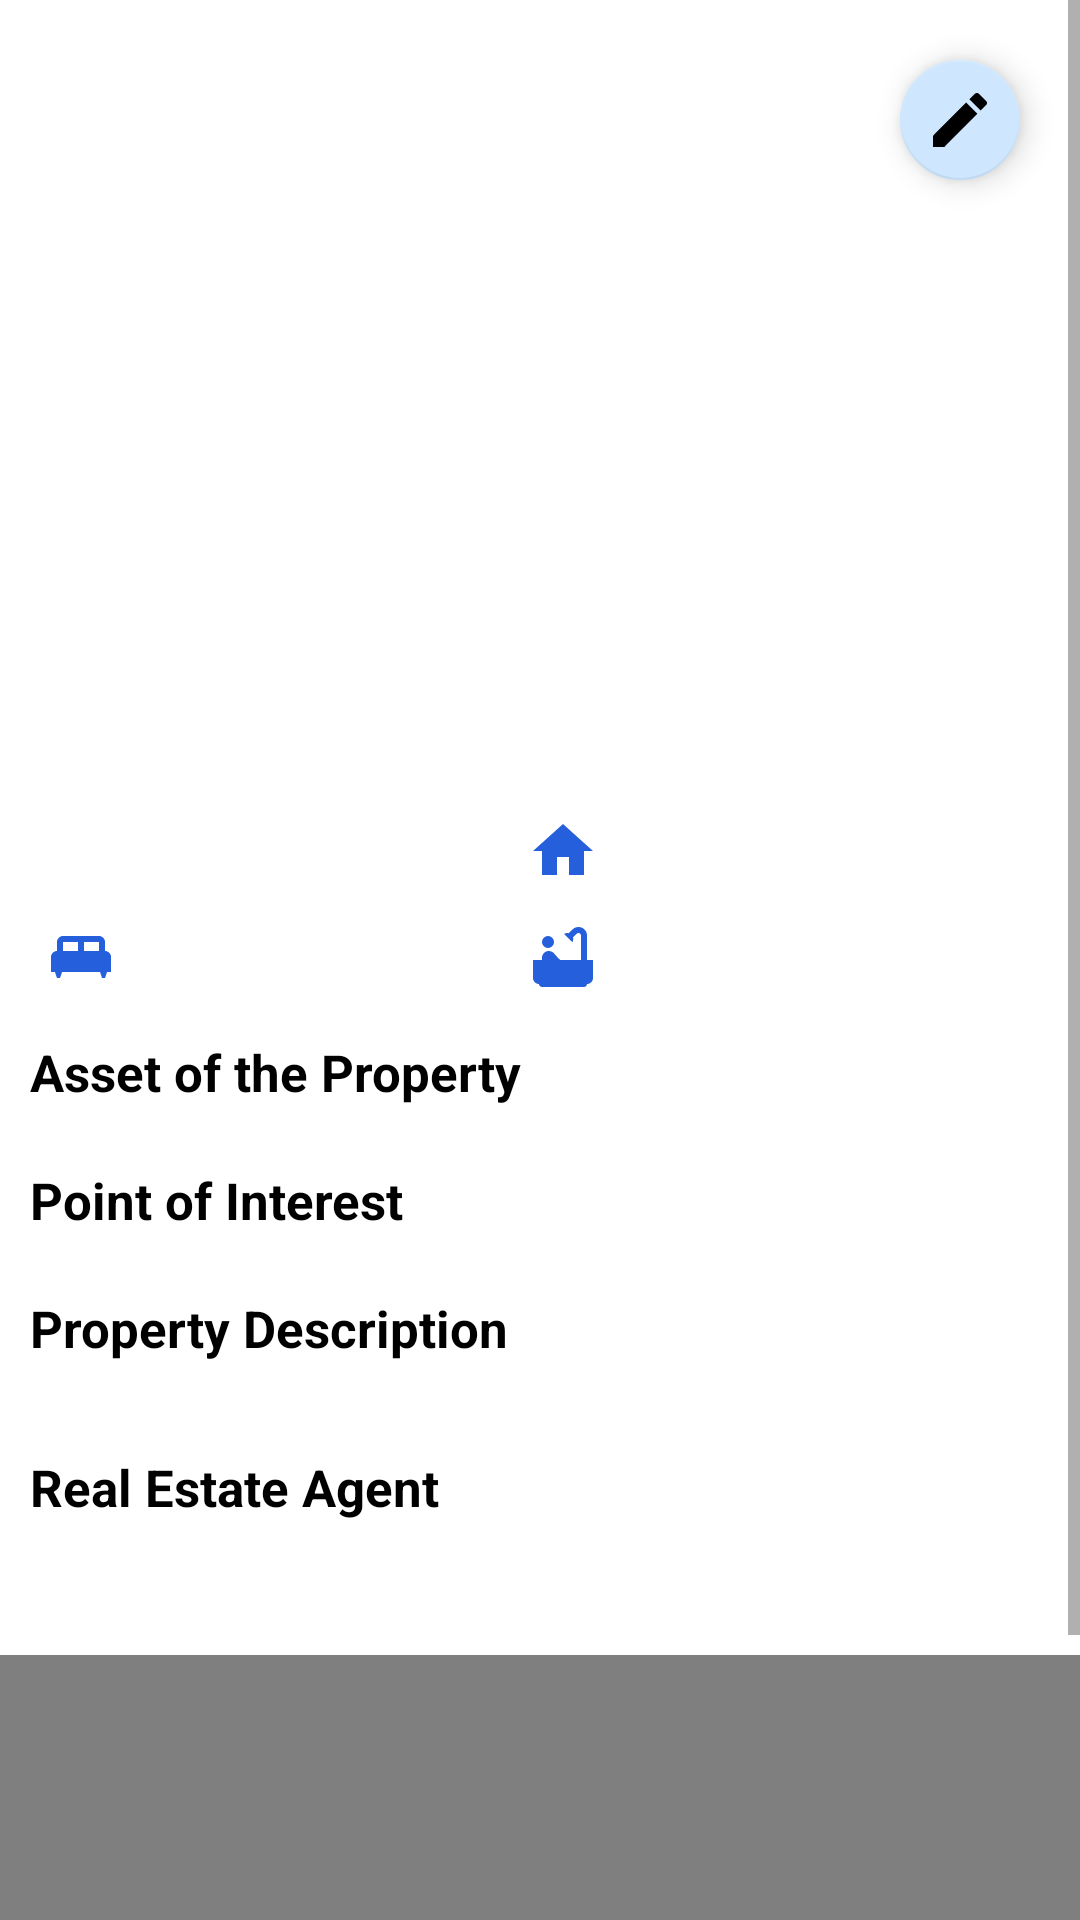

Named icons in this screenshot (1080×1920) and their centers, point (x, y):
edit button: point (961, 120)
